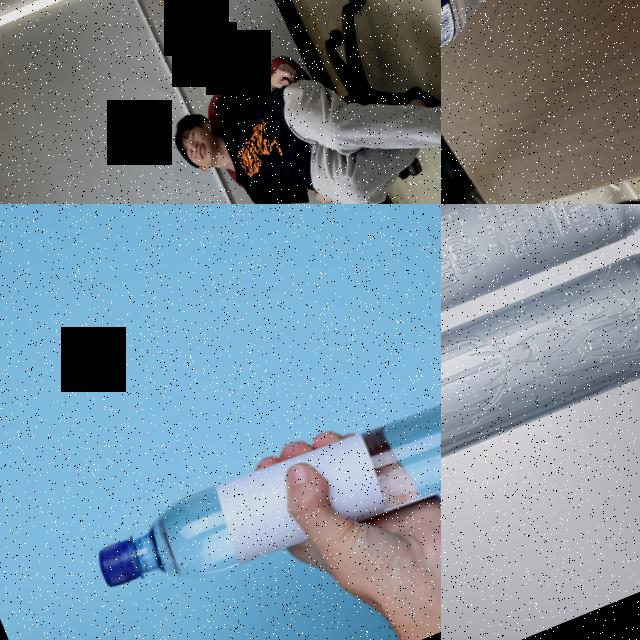bottle: (85, 354, 441, 623), (441, 234, 640, 560), (441, 204, 640, 432), (441, 0, 592, 166)
